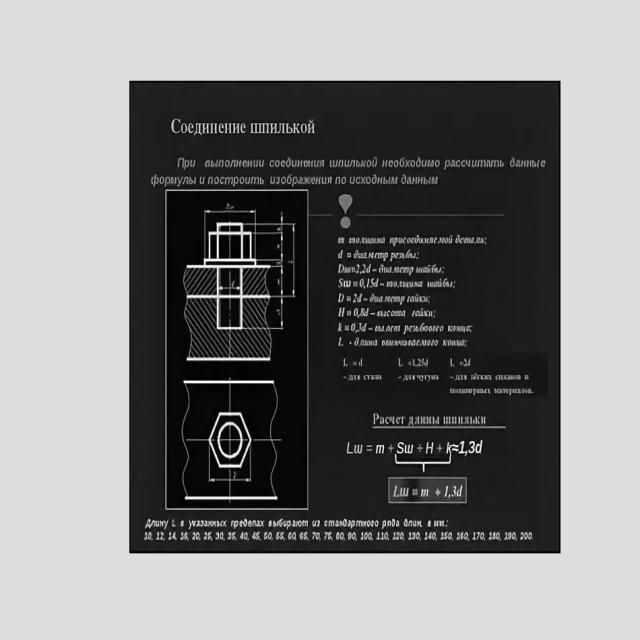marking_line: (271, 220, 297, 330), (271, 212, 297, 298), (203, 208, 257, 223), (209, 469, 252, 482), (271, 295, 286, 331), (219, 286, 240, 290)
